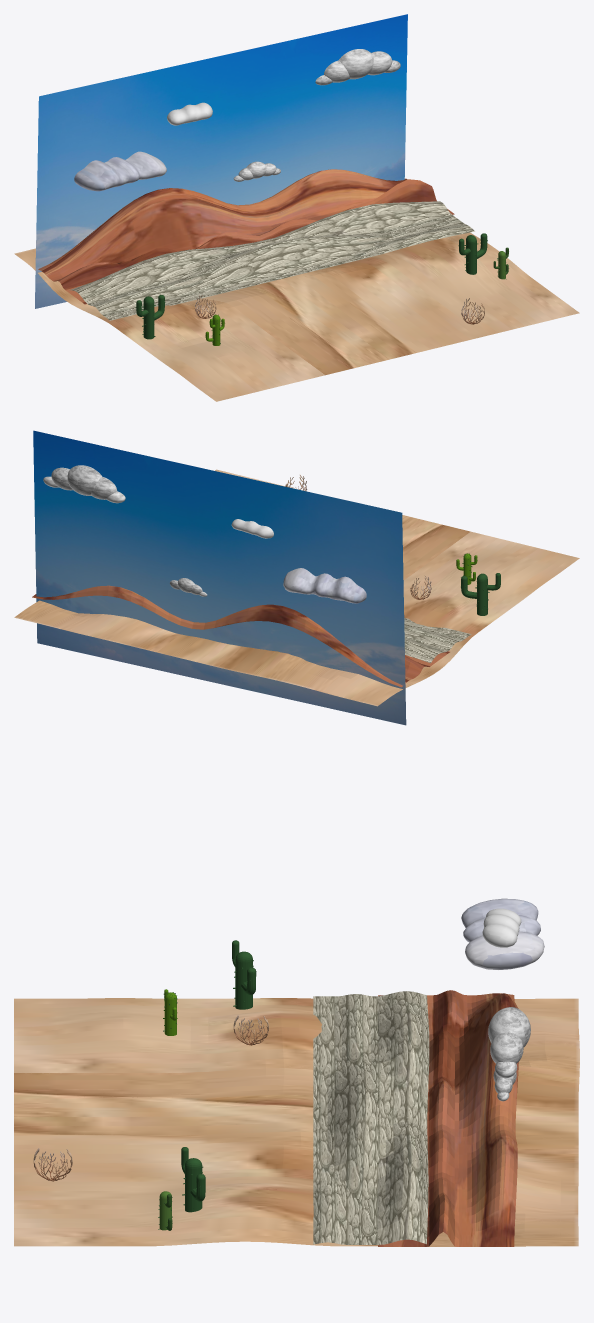
File: desierto protipo.fbx
The picture shows the model from 3 angles, top to bottom: view 1: azimuth 30°, elevation 25°; view 2: azimuth 150°, elevation 25°; view 3: azimuth 270°, elevation 25°; orthographic projection. The views are drawn at different scales.
Parts seen in each view (by area): view 1: Plane.001, Plane.004, Plane.002, Plane.003, Plane.005, Mball.010, Sphere.002, NurbsPath.002, NurbsPath.007, Mball.008, Sphere.001; view 2: Plane.001, Plane.005, Plane.004, Plane.002, Mball.010, Sphere.002, Plane.003, NurbsPath.002, Mball.008, Sphere.001; view 3: Plane.004, Plane.003, Plane.002, Mball.010, Sphere.002, NurbsPath.002, Mball.008, NurbsPath.007.
Boxes of the visible parts, <box> form: Plane.001: <box>35,14,407,308</box>; Plane.004: <box>14,232,579,401</box>; Plane.002: <box>38,169,454,304</box>; Plane.003: <box>70,201,474,320</box>; Plane.005: <box>36,15,407,264</box>; Mball.010: <box>74,151,166,191</box>; Sphere.002: <box>315,49,400,85</box>; NurbsPath.002: <box>135,294,165,339</box>; NurbsPath.007: <box>458,233,487,274</box>; Mball.008: <box>167,102,212,125</box>; Sphere.001: <box>233,161,280,181</box>; Plane.001: <box>33,430,406,725</box>; Plane.005: <box>33,432,405,681</box>; Plane.004: <box>14,469,579,706</box>; Plane.002: <box>32,585,449,687</box>; Mball.010: <box>283,568,366,603</box>; Sphere.002: <box>43,465,125,503</box>; Plane.003: <box>404,618,471,662</box>; NurbsPath.002: <box>461,573,500,615</box>; Mball.008: <box>231,519,273,538</box>; Sphere.001: <box>169,578,207,596</box>; Plane.004: <box>14,998,579,1246</box>; Plane.003: <box>313,991,429,1244</box>; Plane.002: <box>378,990,518,1246</box>; Mball.010: <box>461,898,544,969</box>; Sphere.002: <box>488,1007,530,1078</box>; NurbsPath.002: <box>232,940,256,1009</box>; Mball.008: <box>482,908,521,947</box>; NurbsPath.007: <box>181,1147,205,1212</box>.
Bounding box in the file's own units: 1735 × 970 × 1625.
